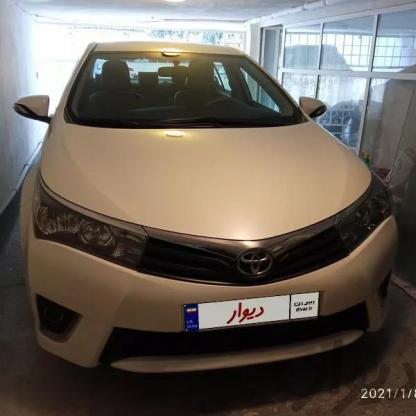Car: (11, 31, 388, 386)
